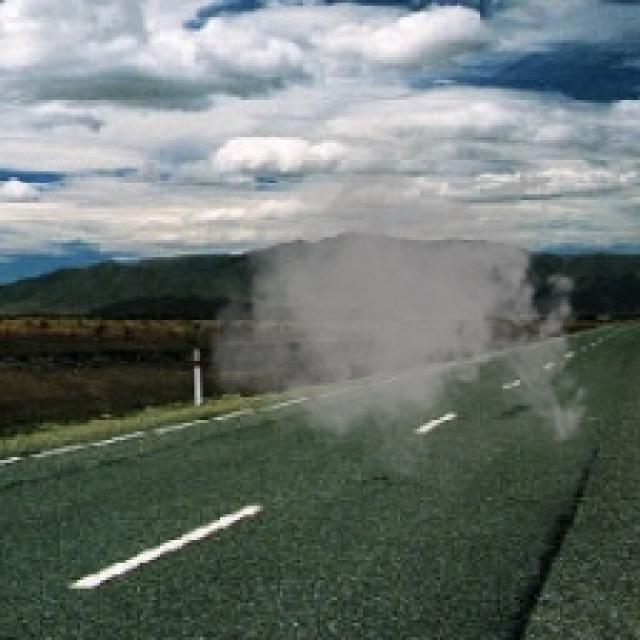Smoke: (203, 97, 600, 503)
